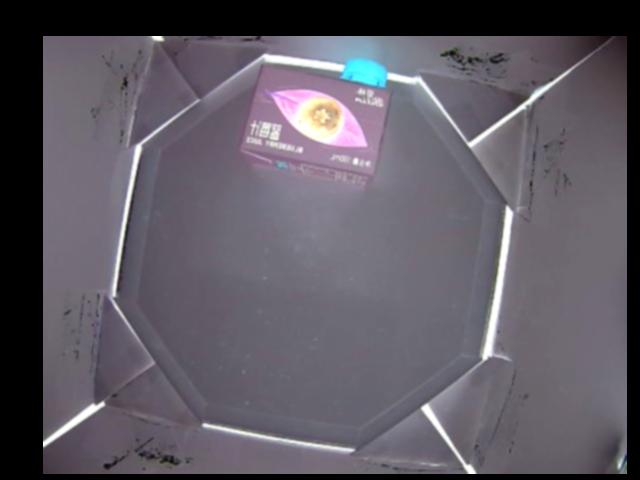Bottle: (237, 47, 394, 187)
